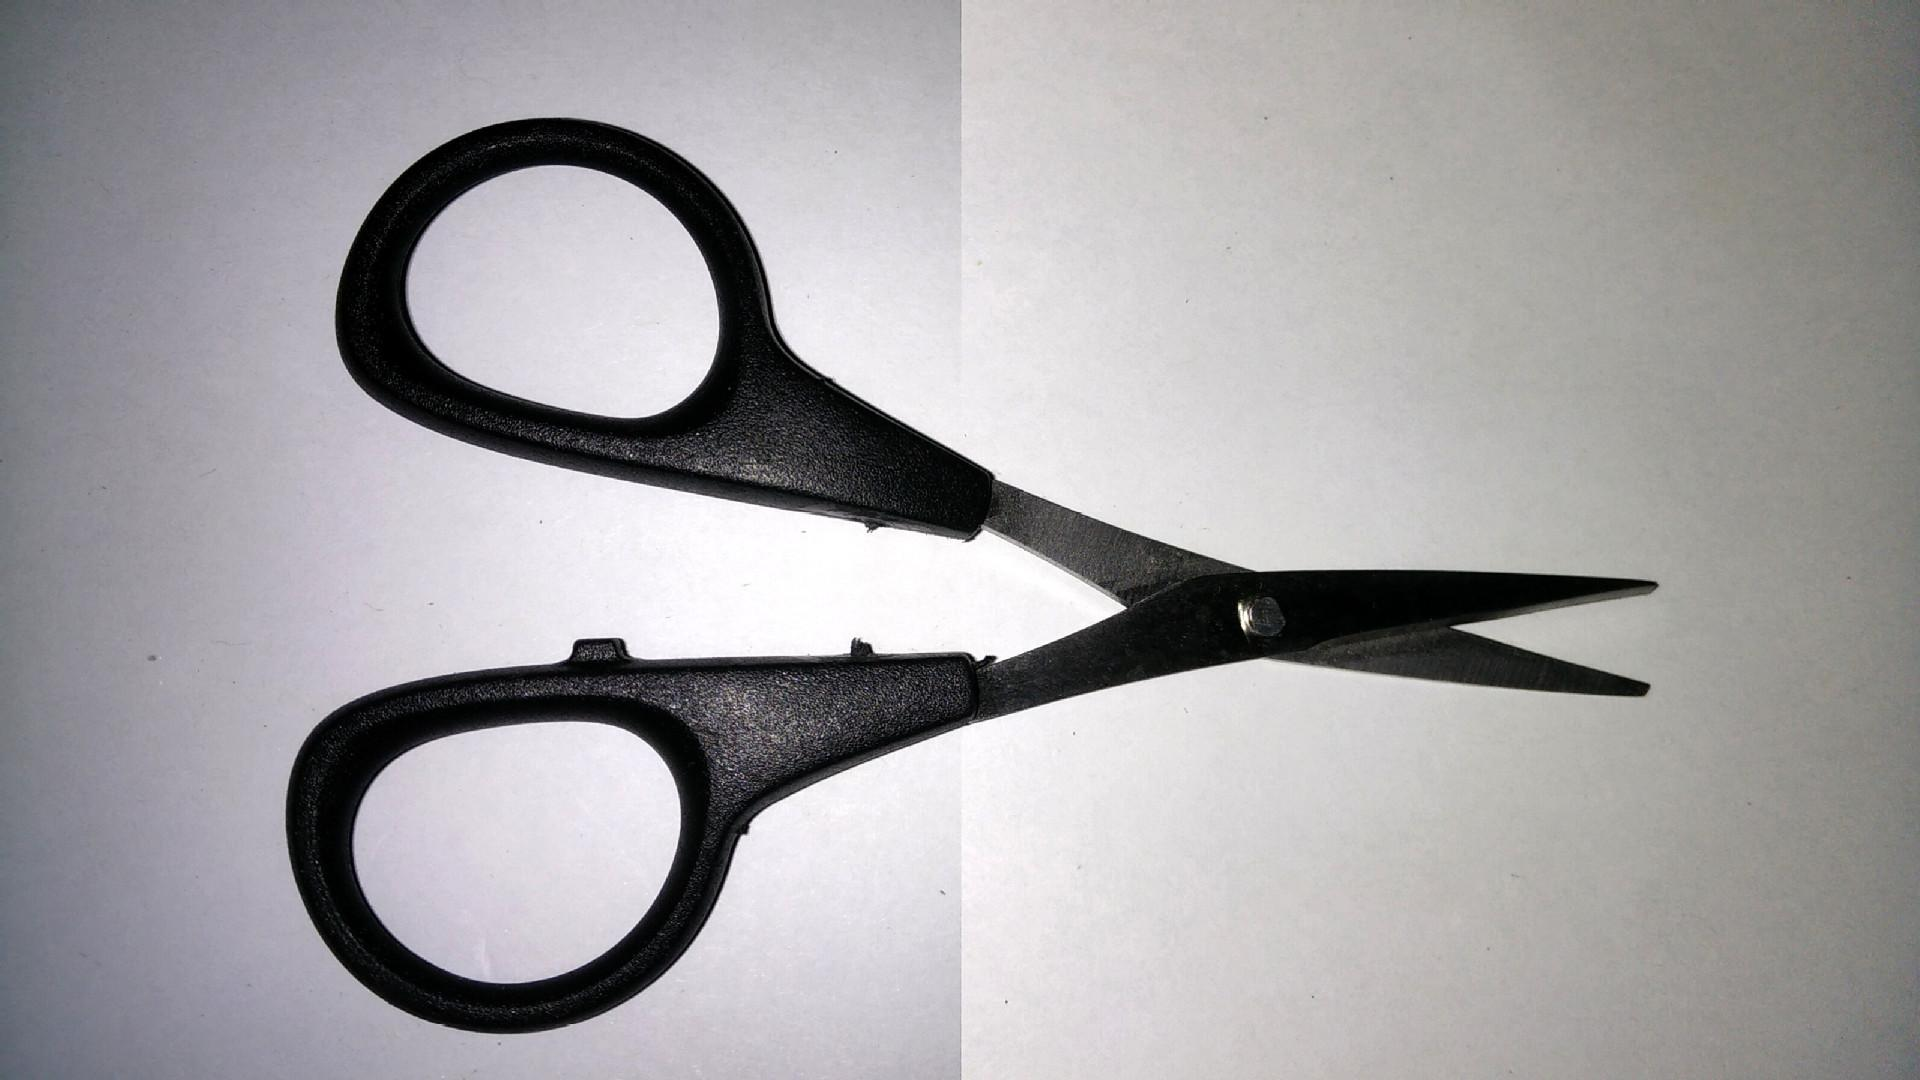scissor: (251, 128, 1760, 980)
